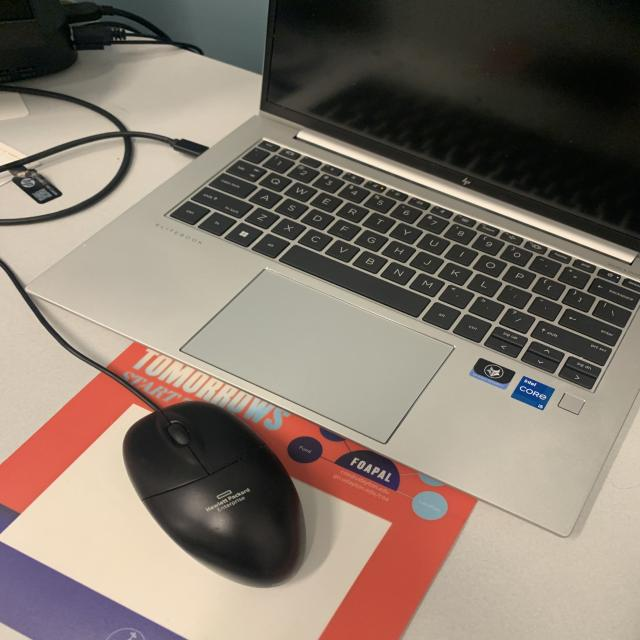Mouse: (106, 395, 326, 596)
